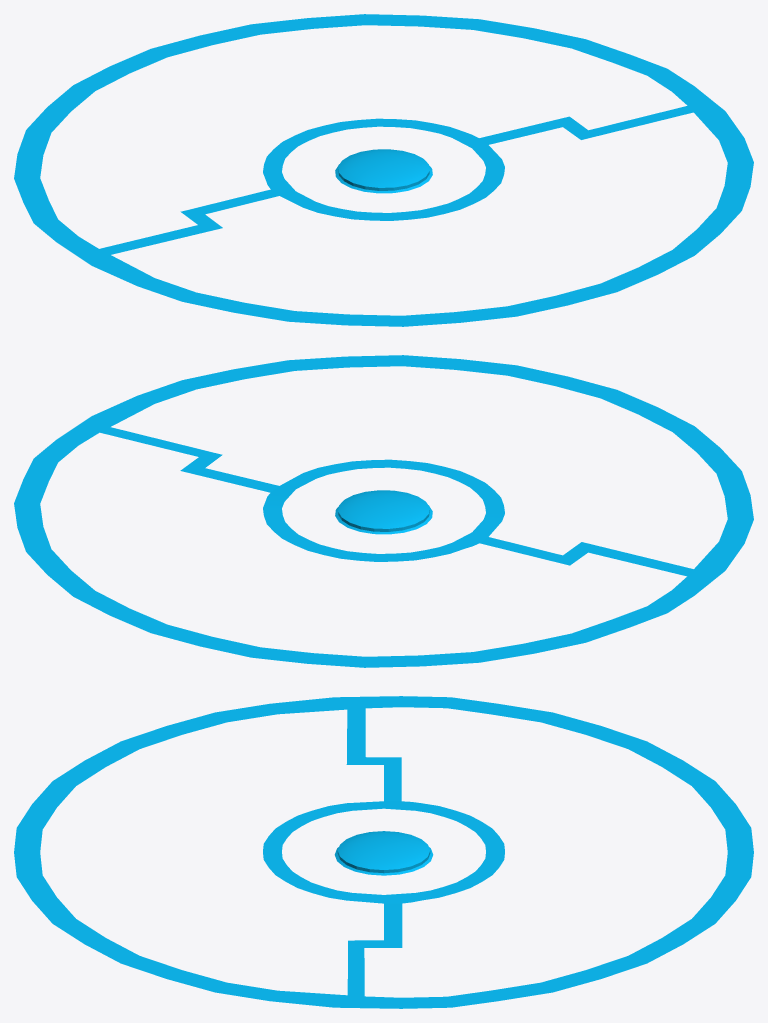
File: floor_is_lava_export_3_blue.fbx
3 renders of one model, top to bottom at view 1: azimuth 30°, elevation 25°; view 2: azimuth 150°, elevation 25°; view 3: azimuth 270°, elevation 25°, orthographic.
Visible parts, largest first — view 1: pCylinder19; view 2: pCylinder19; view 3: pCylinder19.
Boxes of the visible parts, left/top/right/bottom form: pCylinder19: left=14, top=14, right=753, bottom=326; pCylinder19: left=14, top=355, right=753, bottom=667; pCylinder19: left=14, top=696, right=753, bottom=1008.
Bounding box in the file's own units: 247 × 3.15 × 247.
